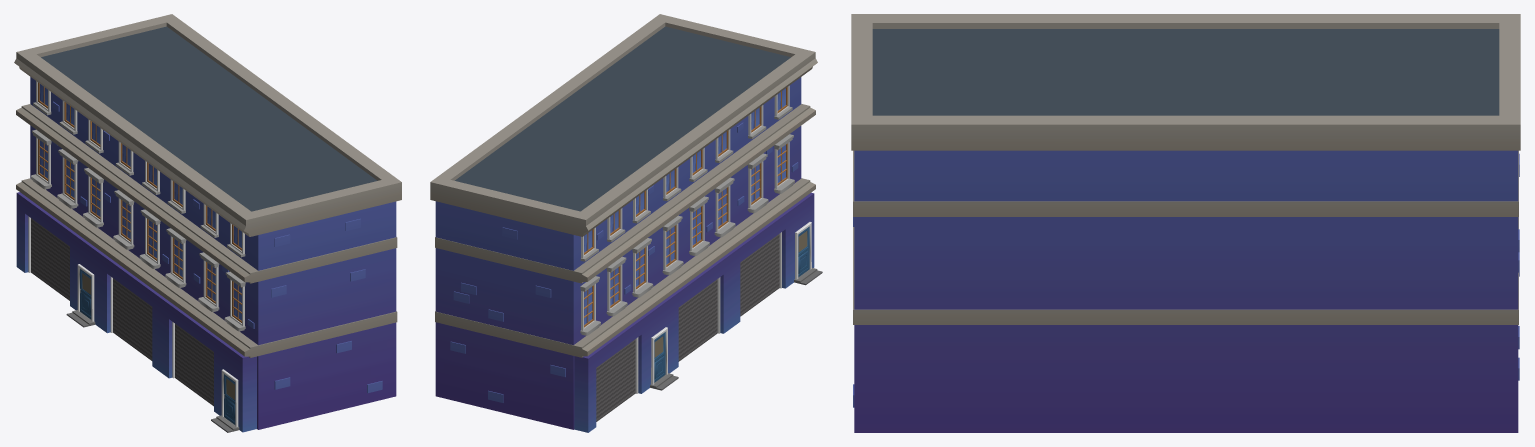
Rendered from Building_20_2_C.fbx.
3 renders of one model, left to right at view 1: azimuth 30°, elevation 25°; view 2: azimuth 150°, elevation 25°; view 3: azimuth 270°, elevation 25°, orthographic. The views are drawn at different scales.
Parts seen in each view (by area): view 1: Building_20_2_C; view 2: Building_20_2_C; view 3: Building_20_2_C.
Boxes of the visible parts, box(x1,y1,x2,y2) form: Building_20_2_C: box(14, 14, 401, 432); Building_20_2_C: box(430, 14, 822, 432); Building_20_2_C: box(851, 14, 1520, 432).
Size of the model in its own units: 774 by 938 by 1827.
